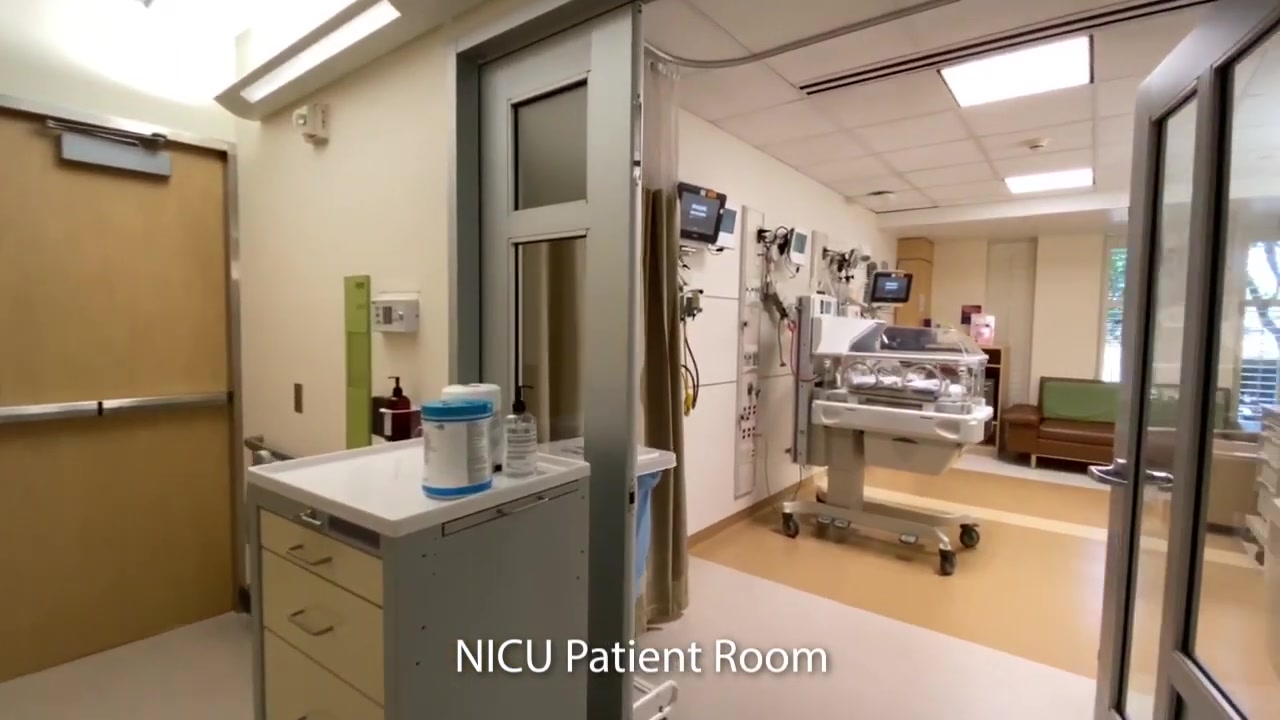bedside_monitor: (677, 181, 728, 245), (715, 203, 742, 252), (872, 271, 913, 303), (786, 227, 814, 264)
curtain: (643, 58, 694, 446)
dispenser: (502, 382, 540, 478), (383, 376, 411, 442)
door_handle: (1084, 461, 1128, 491), (1143, 466, 1174, 493)
hallway_assist_bar: (240, 436, 296, 462)
handle: (497, 488, 553, 518), (287, 610, 335, 638), (284, 544, 332, 567), (290, 511, 324, 531)
incubator: (780, 295, 988, 579)
medical_drawer: (246, 431, 590, 720)
push_latch: (1, 390, 232, 427)
sofa: (999, 376, 1124, 472)
waste_bin: (638, 447, 688, 718)
